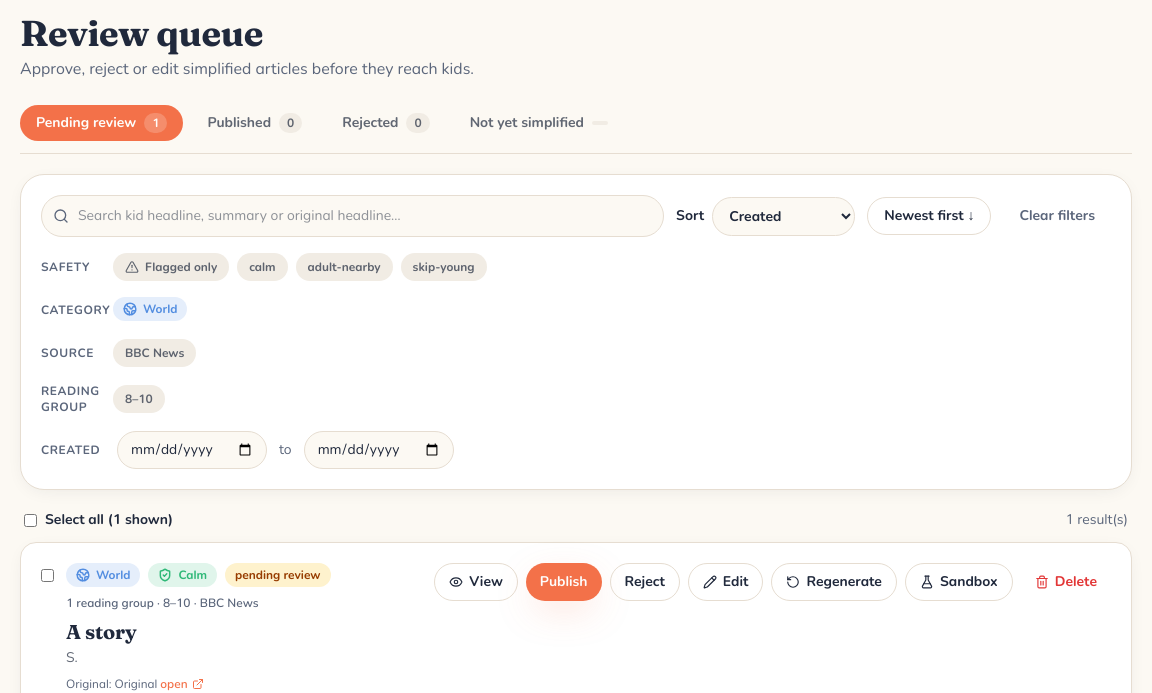
Test: review queue, server unreachable › the story stays on screen rather than vanishing
Expected: the button "A story" is shown, 66,619 -> 136,644
What coordinates should you click on to do the following:
click the button "Publish"
I would click on:
 (564, 582)
Its box is 526,563 -> 602,601.
(page scrolled)
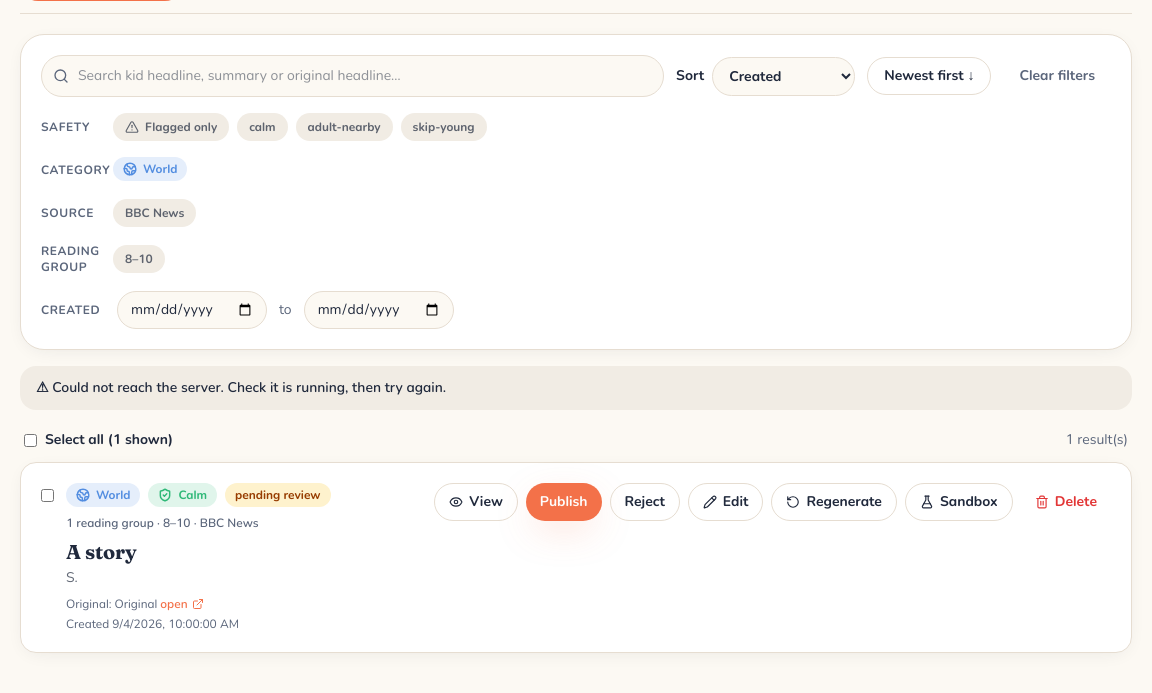
Expected: the button "A story" is shown, 66,539 -> 136,564
Now the text "⚠ Could not reach the server. Check it is running, then try again." is shown, box 20,366 -> 1132,410
